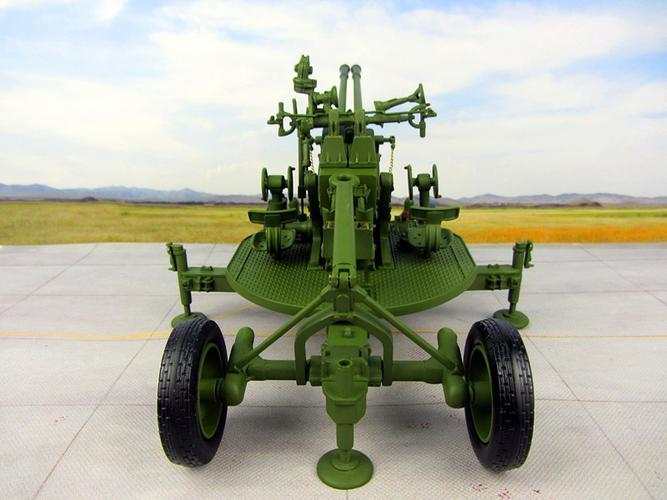MIL_SPG: (158, 56, 534, 490)
